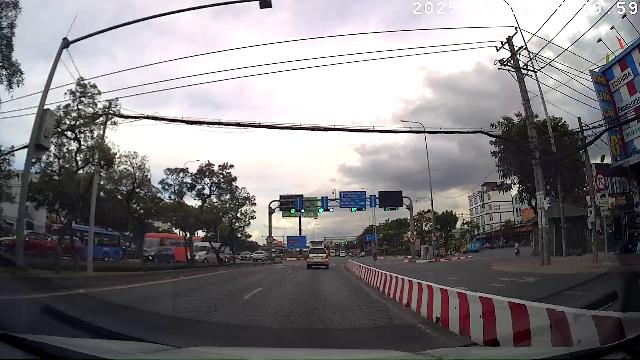123b-cam-re-phai: (594, 172, 606, 190)
